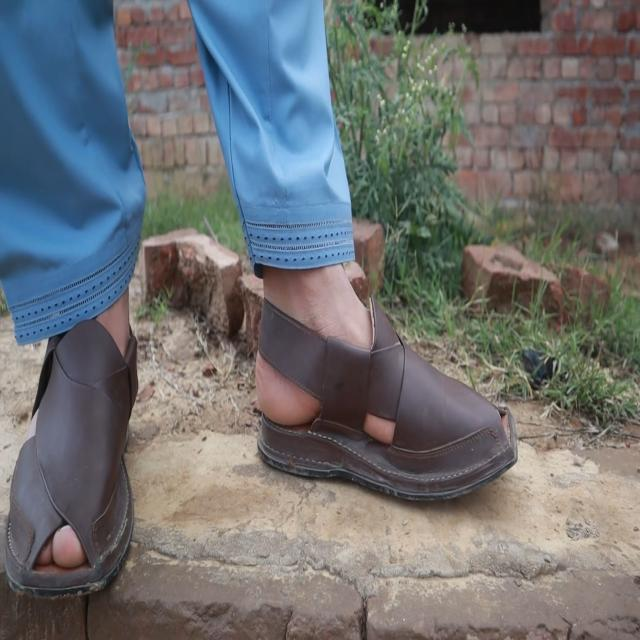dress: (0, 0, 370, 350)
